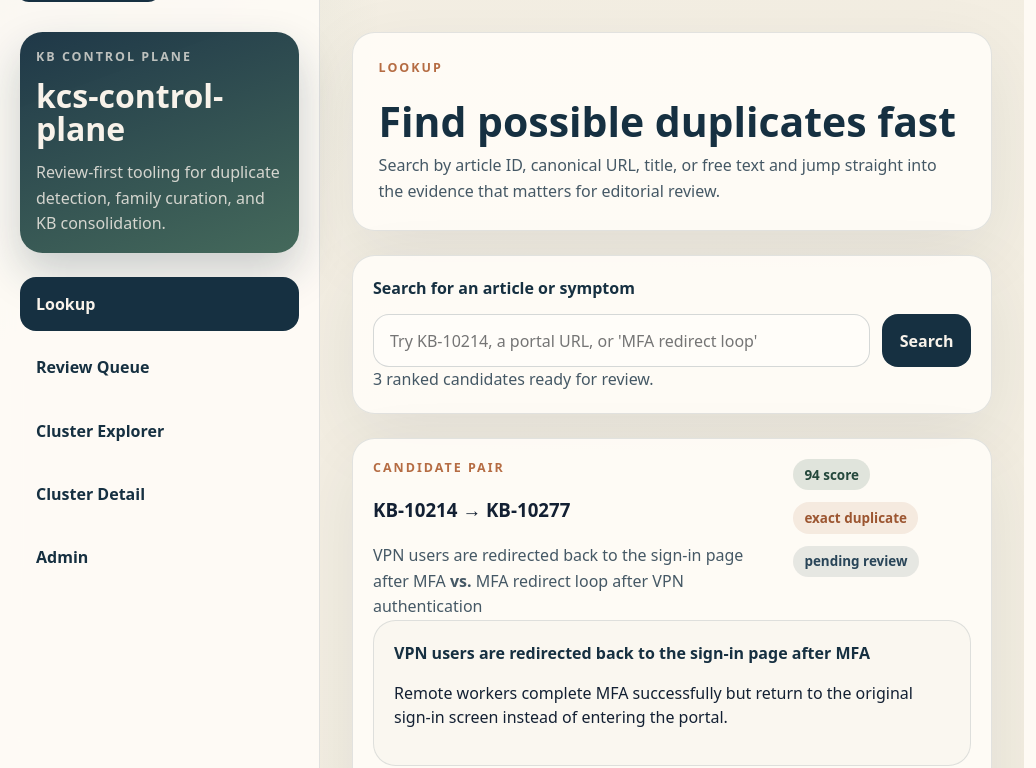
Test: workflow-first frontend › renders index completeness in the admin page
Click the button "Admin" at (62, 557), box [20,530,299,584]
(page scrolled)
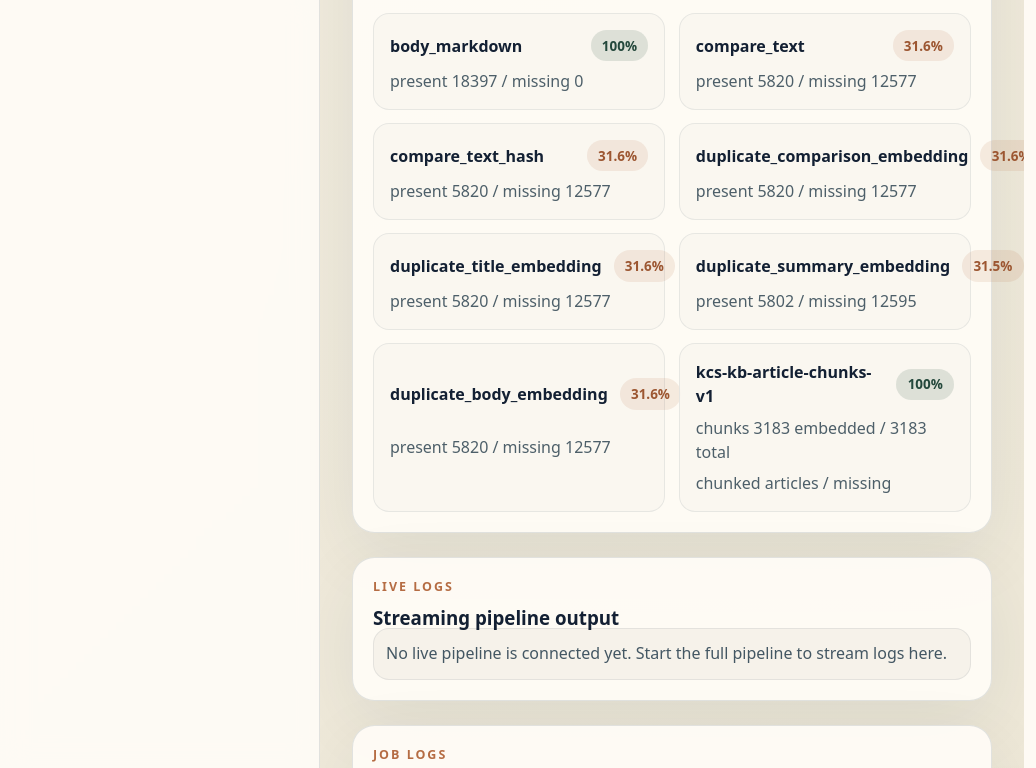
Expected: the text "kcs-kb-article-chunks-v1" is shown, [696,360,884,408]
